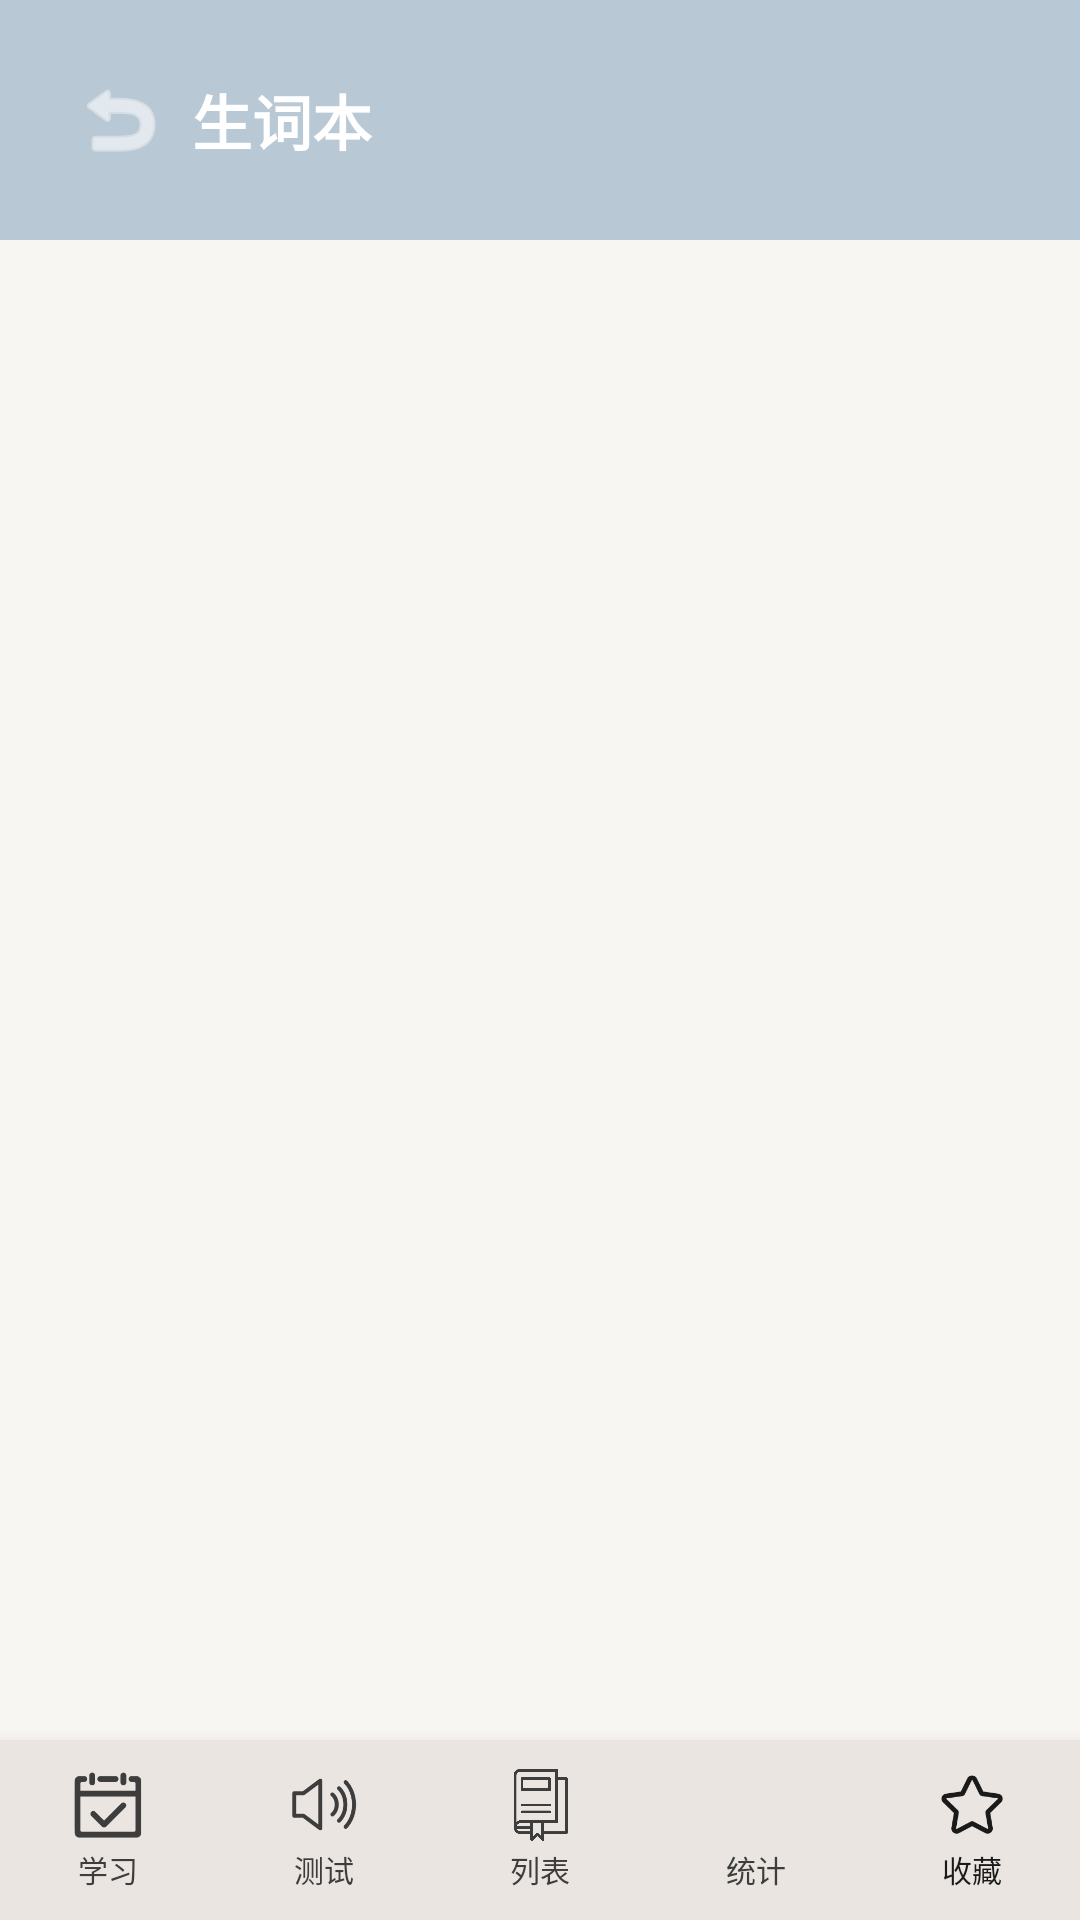

Screen size 1080×1920. Icon name, then its center in pixels as [x,y]:
revert: [121,120]
speak: [324,1804]
